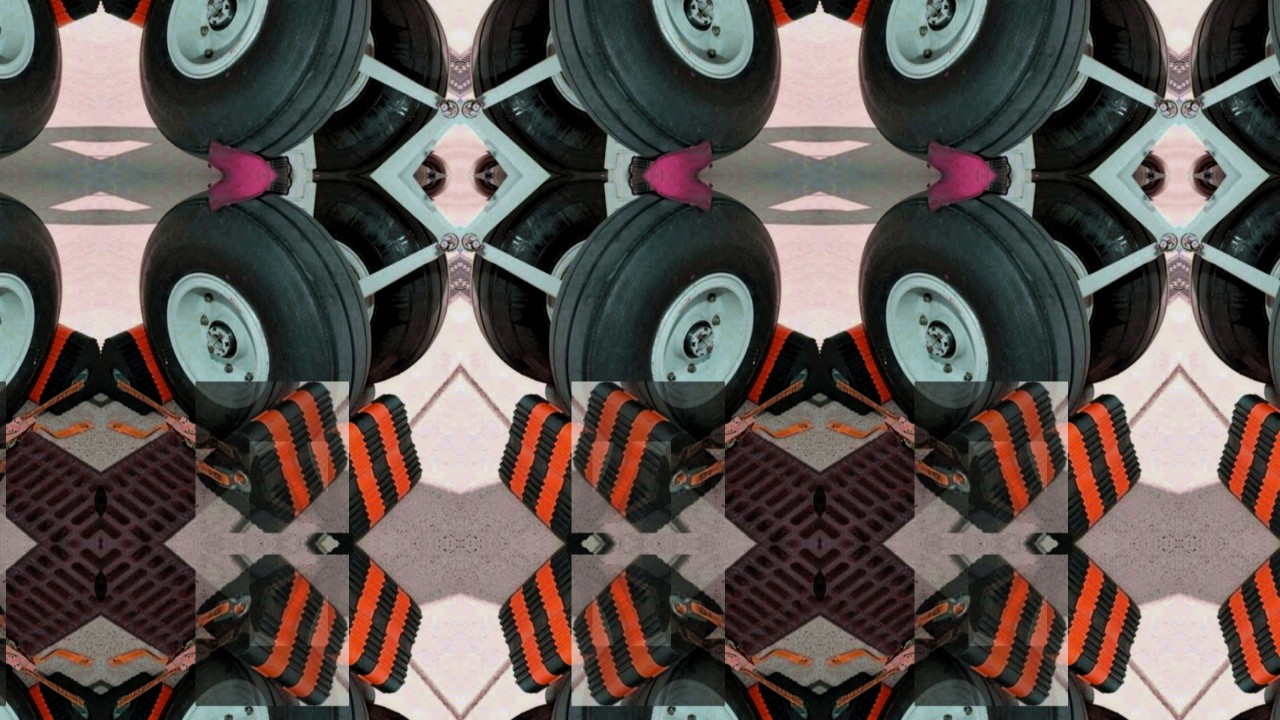chock: (195, 381, 349, 533), (571, 381, 725, 533), (915, 381, 1069, 533), (195, 555, 349, 707), (571, 555, 725, 707), (915, 555, 1069, 707), (271, 394, 423, 544), (497, 394, 649, 544), (991, 394, 1143, 544), (271, 544, 423, 694), (497, 544, 649, 694), (991, 544, 1143, 694), (1217, 394, 1280, 544), (1217, 544, 1280, 694), (9, 322, 100, 416), (100, 322, 191, 416), (729, 322, 820, 416), (820, 322, 911, 416), (249, 442, 327, 524), (593, 442, 671, 524), (969, 442, 1047, 524), (249, 564, 327, 646), (593, 564, 671, 646), (969, 564, 1047, 646), (9, 671, 100, 720), (100, 671, 191, 720), (729, 671, 820, 720), (820, 671, 911, 720), (9, 0, 100, 29), (100, 0, 191, 29), (729, 0, 820, 29), (820, 0, 911, 29)
wheel: (137, 189, 366, 454), (554, 189, 783, 454), (857, 189, 1086, 454), (137, 0, 366, 162), (554, 0, 783, 162), (857, 0, 1086, 162), (315, 178, 444, 380), (476, 178, 605, 380), (1035, 178, 1164, 380), (315, 0, 444, 173), (476, 0, 605, 173), (1035, 0, 1164, 173), (137, 634, 366, 720), (554, 634, 783, 720), (857, 634, 1086, 720), (1197, 178, 1280, 380), (0, 189, 63, 454), (1197, 0, 1280, 173), (0, 0, 63, 162)
